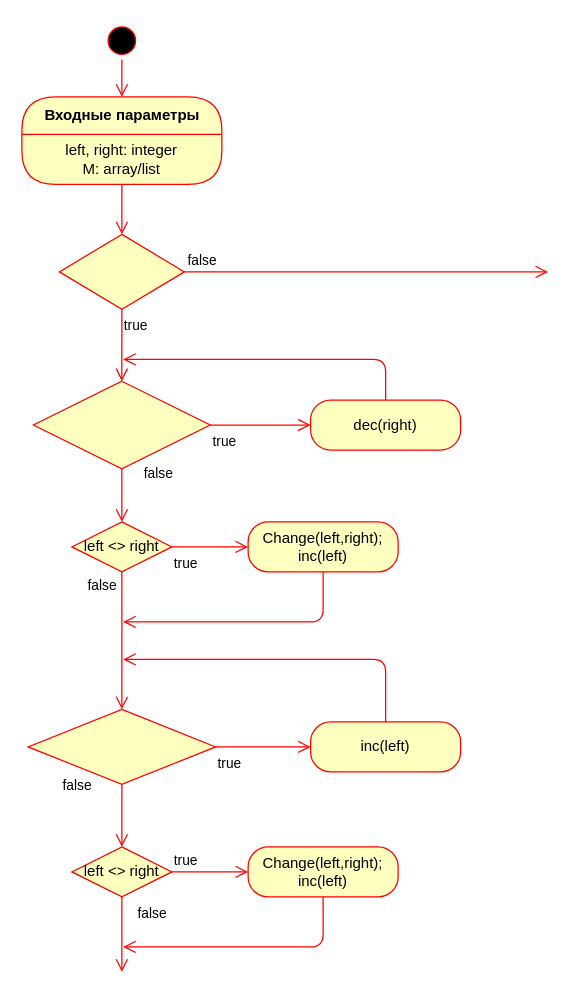
Image size: 583x1006. Some labels were removed from this diagram. The centre of each missing label's shape, as x and y in pixels:
"(M[left] <= Res) and (left < right)" belongs at [121,746].
"(M[right] >= Res) and (left < right)" belongs at [121,424].
"left<right" belongs at [121,271].
